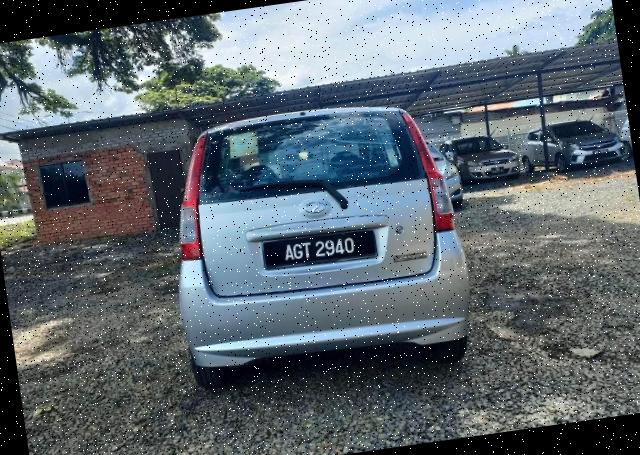License_Plate: (264, 230, 370, 275)
